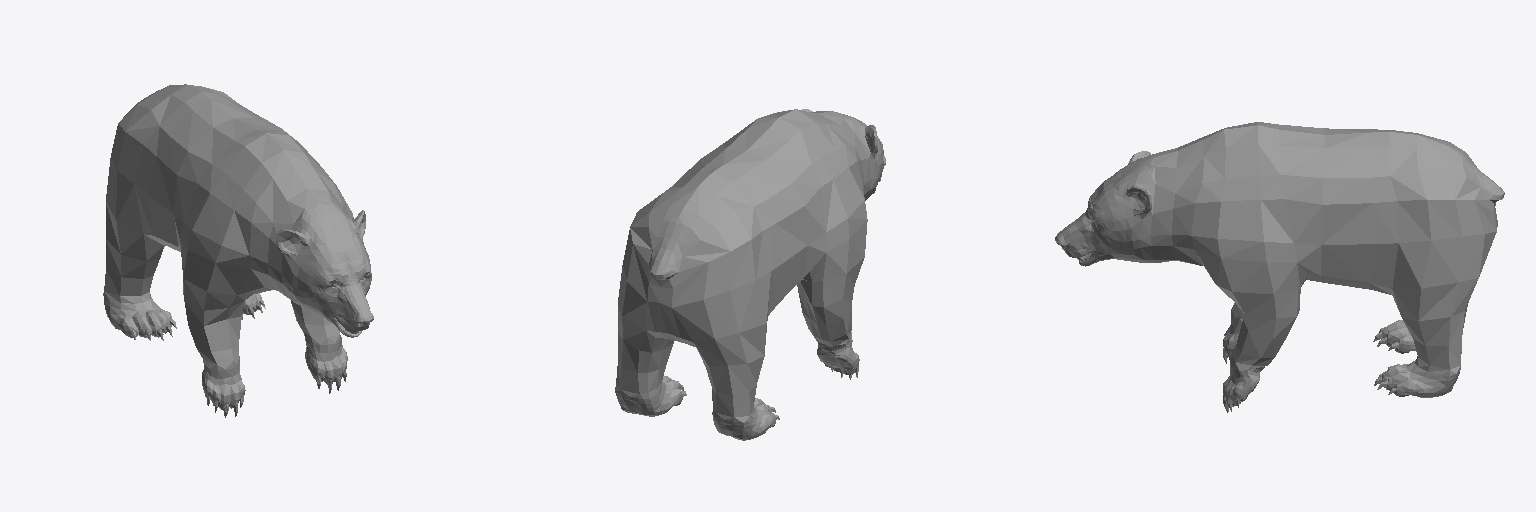
Rendered from Bear_Brown2.obj.
The picture shows the model from 3 angles: view 1: azimuth 30°, elevation 25°; view 2: azimuth 150°, elevation 25°; view 3: azimuth 270°, elevation 25°; orthographic projection.
Visible parts, largest first — view 1: Bear; view 2: Bear; view 3: Bear.
Boxes of the visible parts, x1=… form: Bear: x1=103, y1=84, x2=373, y2=417; Bear: x1=615, y1=109, x2=885, y2=440; Bear: x1=1055, y1=122, x2=1504, y2=412.
Bounding box in the file's own units: 1.71 × 2.82 × 4.41.